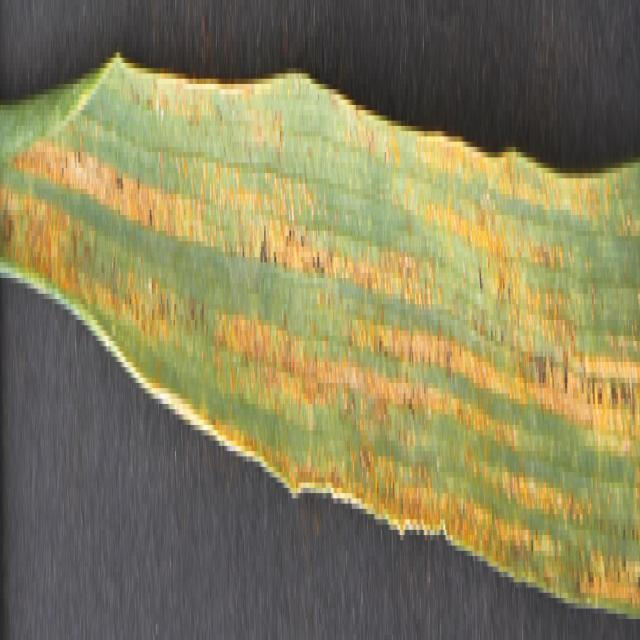leaf rust: (16, 42, 638, 603)
